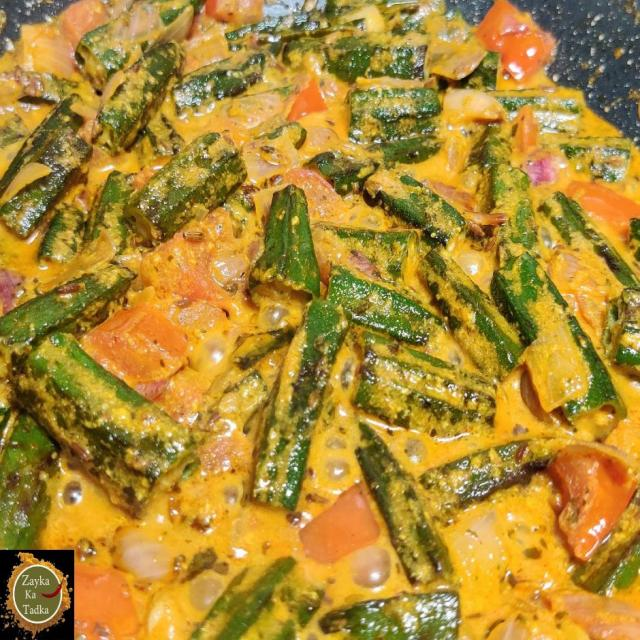Bhindi Masala: (4, 0, 640, 551)
